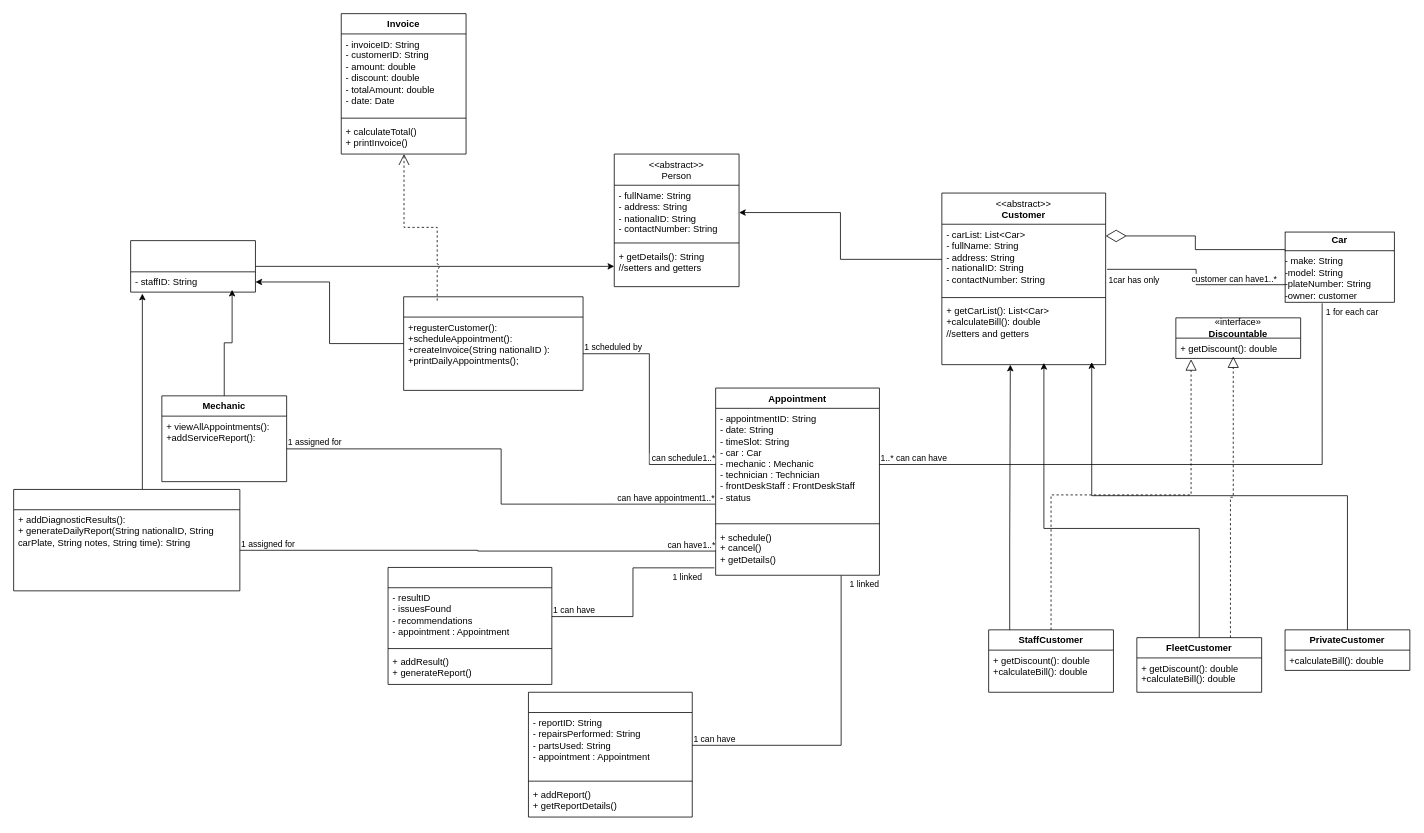
This 1424x833 diagram has some shape labels left out. The shapes that lost their labels are listed below. From the top down, each one's box as (x1, y1, x2, y2) in pixels, then its label:
(130, 240, 255, 292): <<abstract>> Staff
(403, 296, 583, 390): FrontDeskStaff
(13, 489, 240, 591): Technician
(387, 567, 552, 684): DiagnosticResult
(528, 691, 692, 817): ServiceReport
